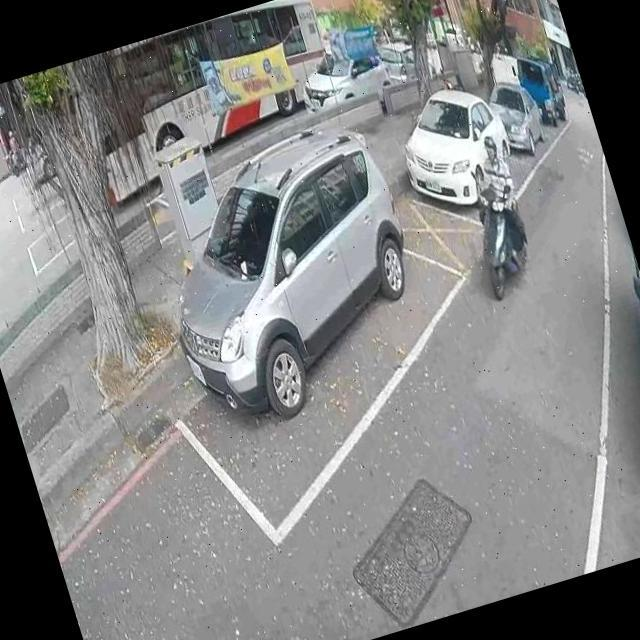person: (455, 128, 538, 278), (1, 124, 26, 172)
